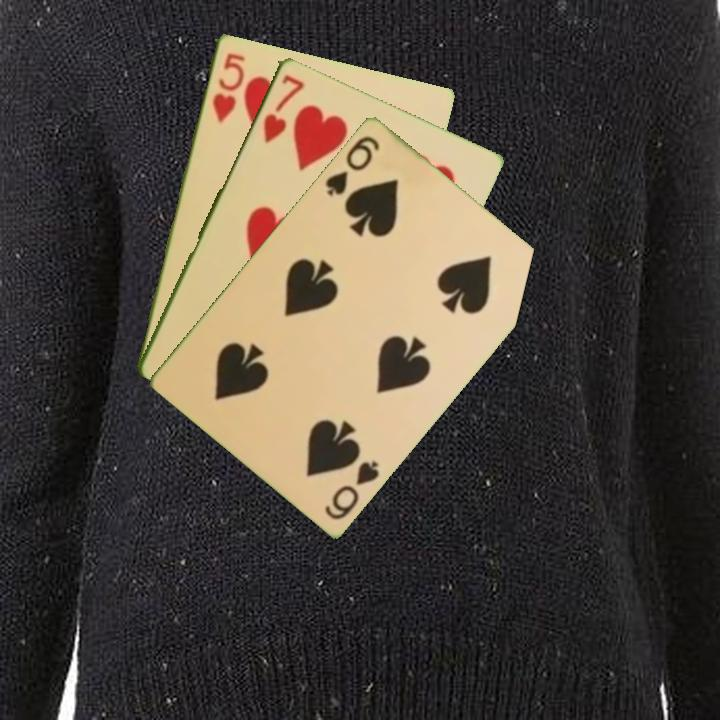5h: (208, 49, 247, 125)
6s: (321, 131, 383, 198), (321, 456, 383, 522)
7h: (259, 70, 307, 146)
